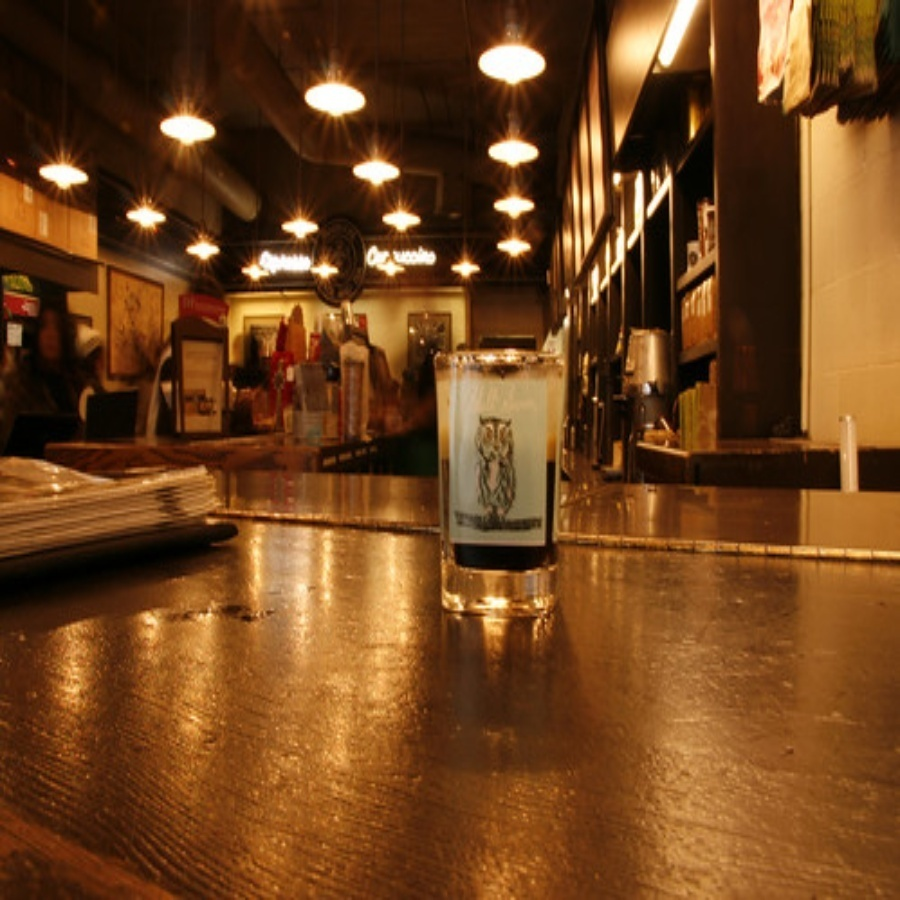whiskey: (438, 350, 572, 617)
